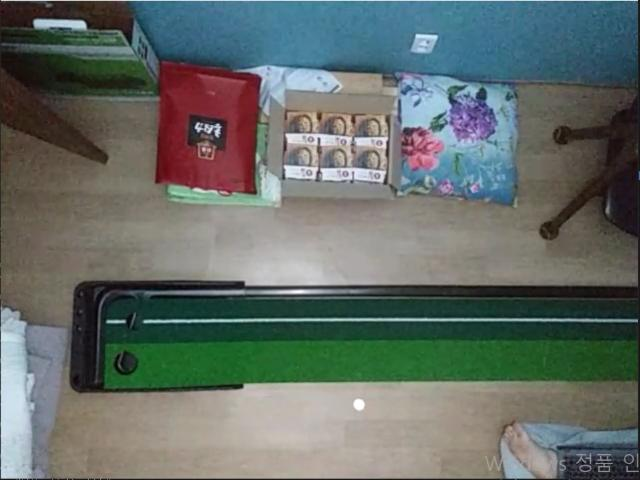golf_ball: (352, 397, 367, 412)
green_zone: (104, 298, 639, 388)
hole: (113, 350, 138, 376), (125, 311, 144, 331)
